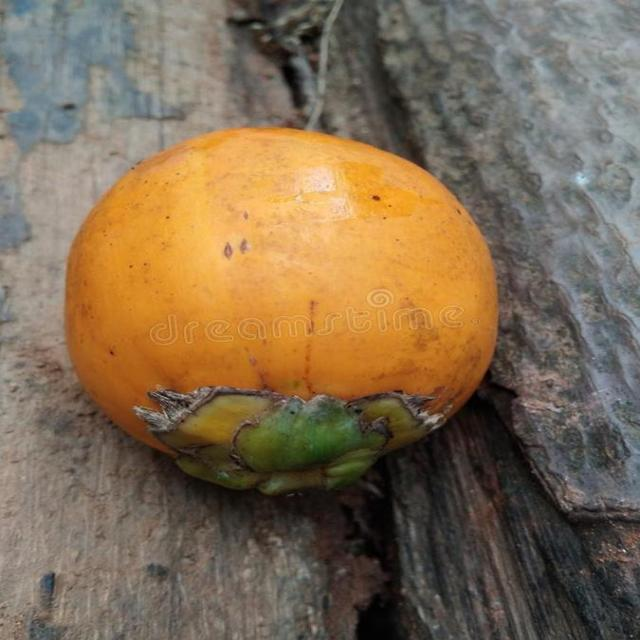good: (62, 127, 500, 498)
